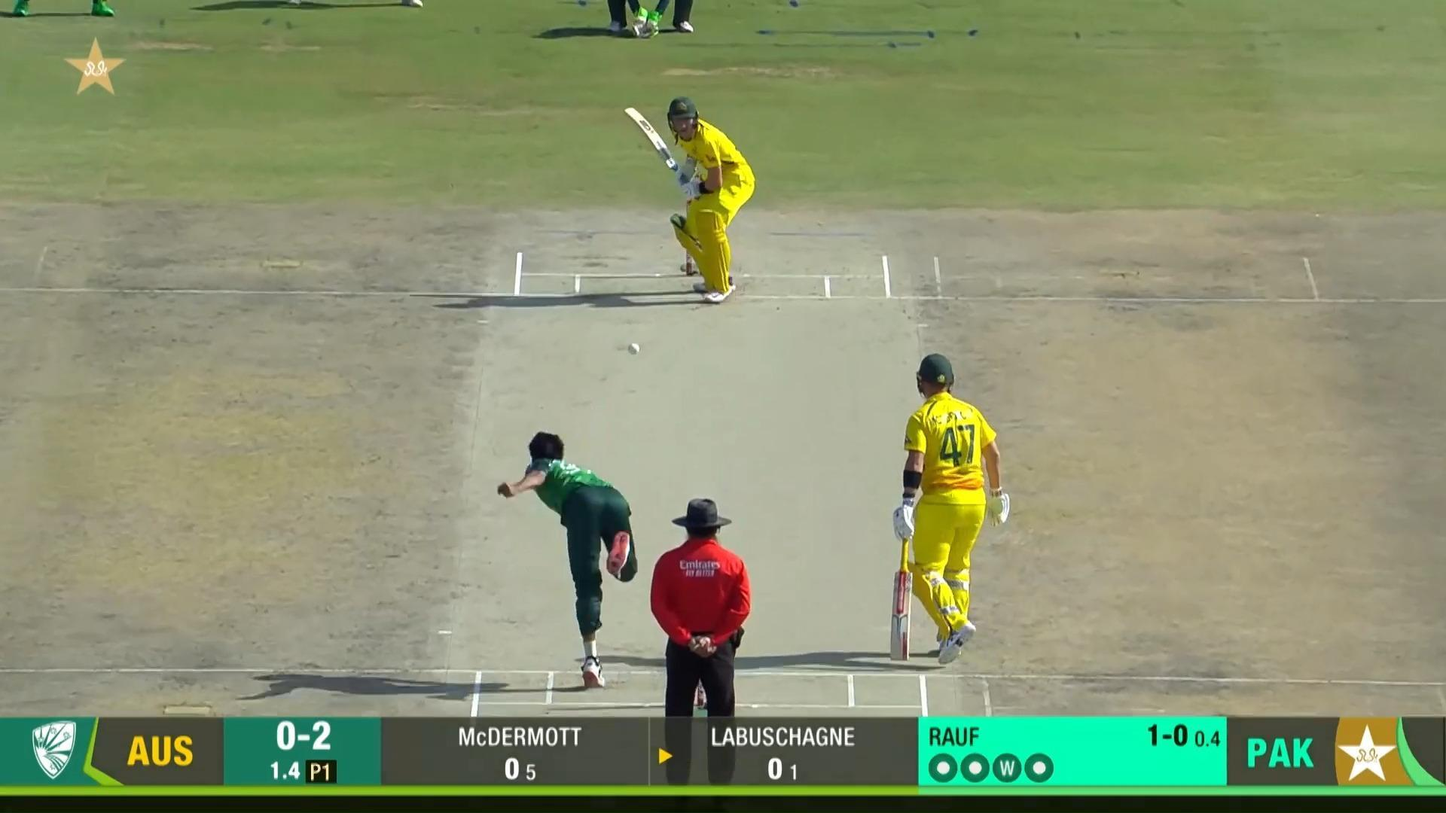BM 1: (624, 96, 756, 304)
BO: (496, 428, 640, 688)
